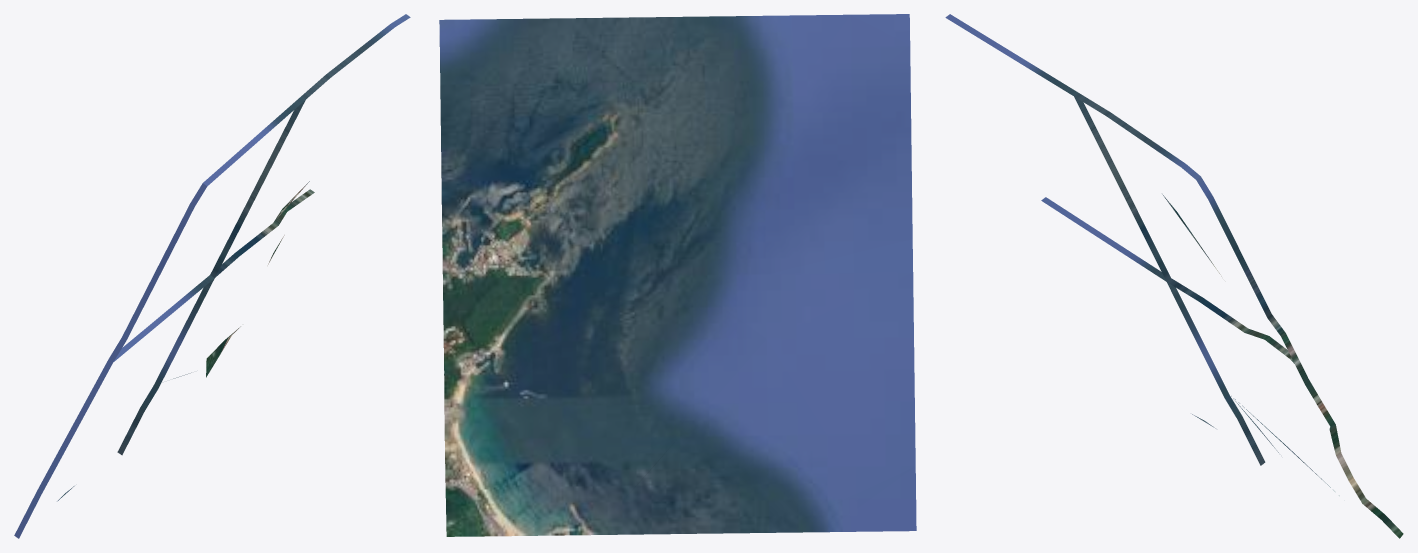
3 views of the same model, side by side, from view 1: azimuth 30°, elevation 25°; view 2: azimuth 150°, elevation 25°; view 3: azimuth 270°, elevation 25° (orthographic). The views are drawn at different scales.
Bounding box in the file's own units: 4895 × 4446 × 4373.
Materials: 1 (1 with a texture image).
